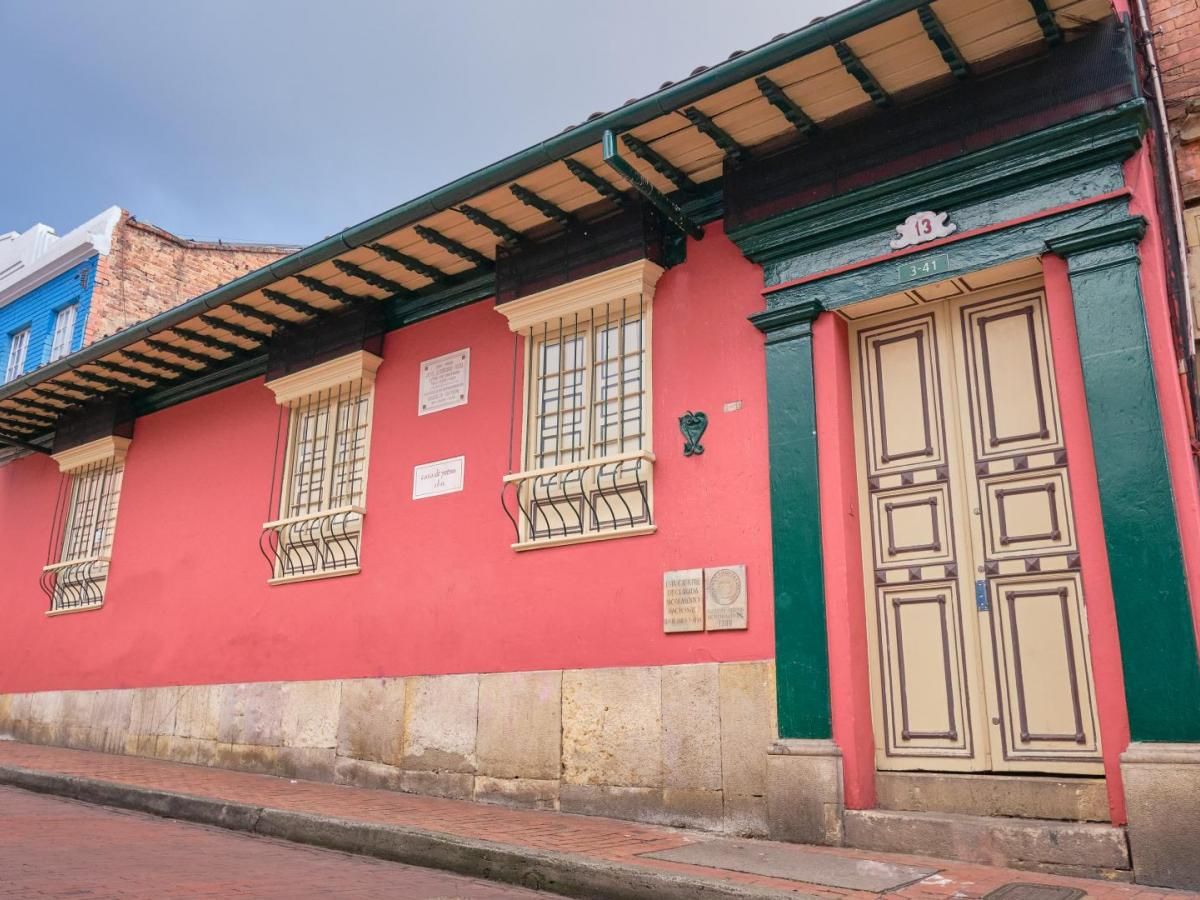House: (11, 21, 1193, 868)
